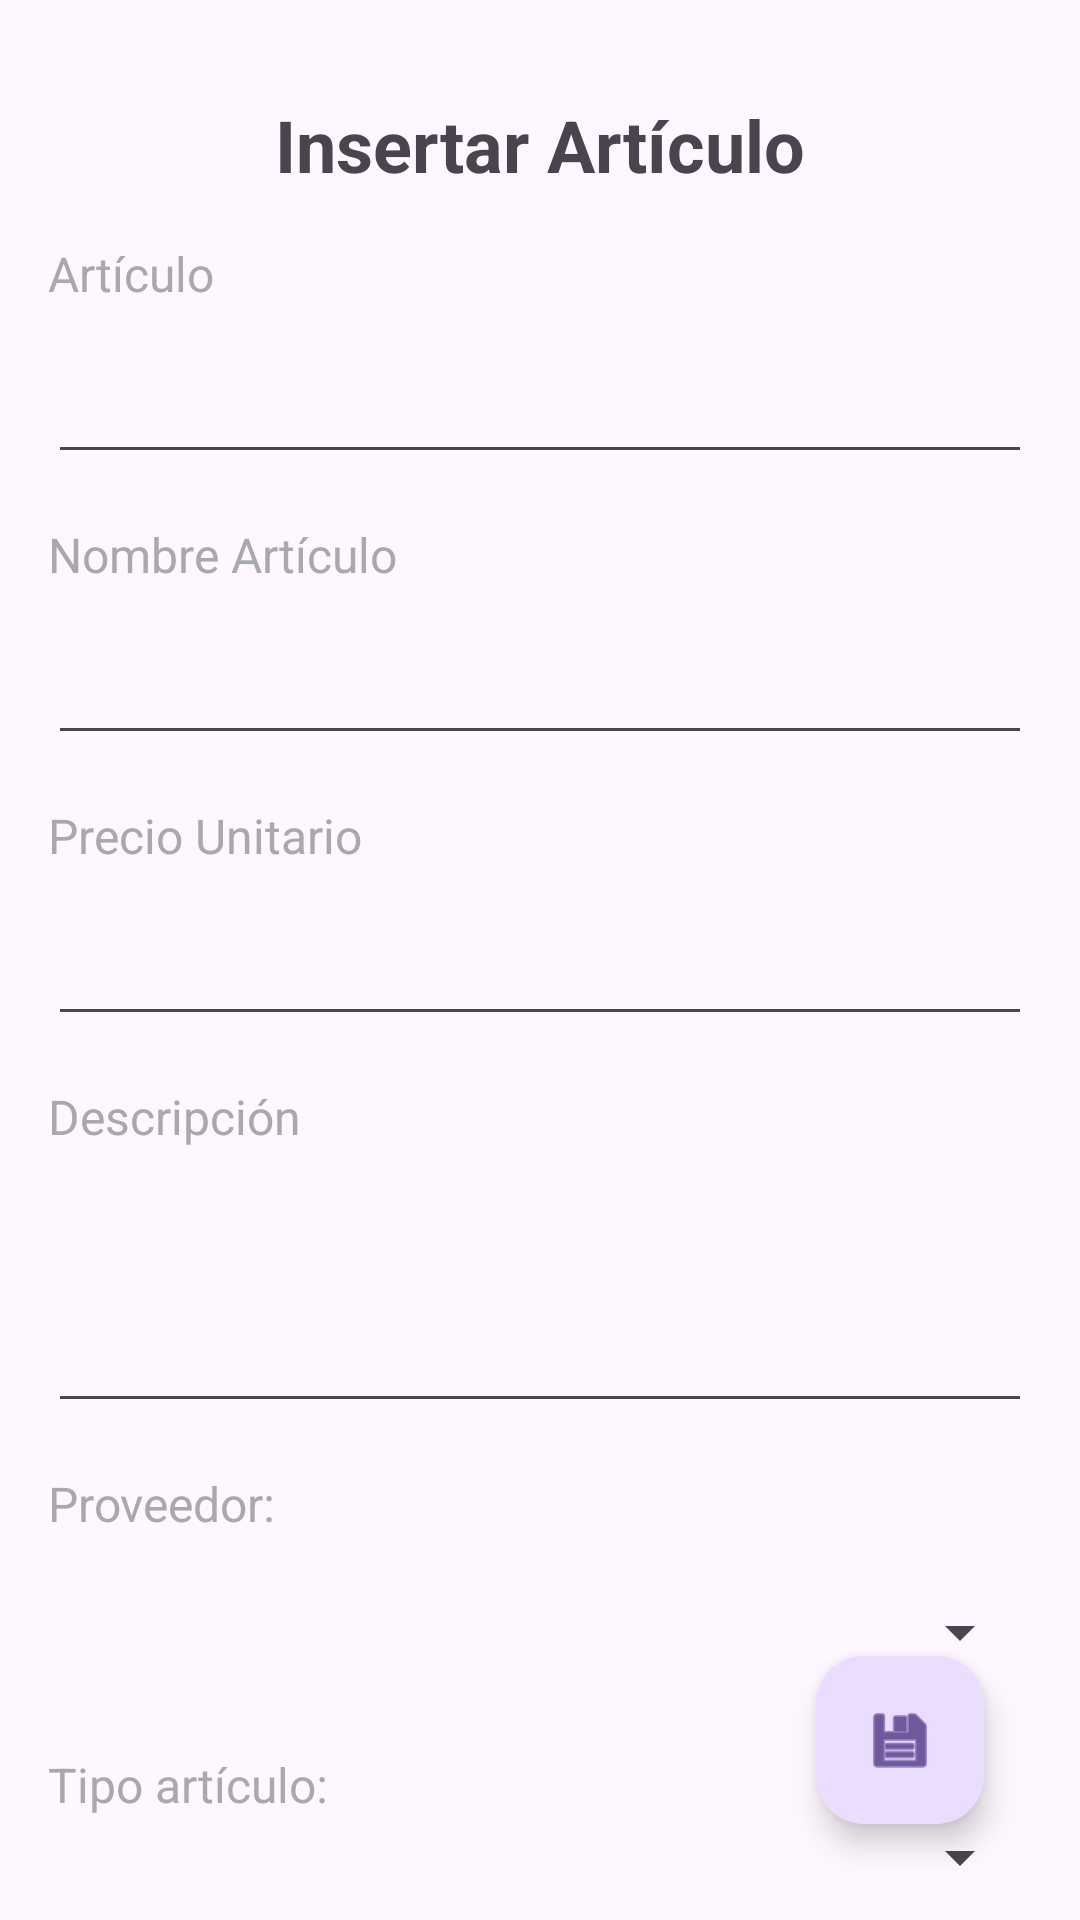

Screen size 1080 × 1920. Icon name, then its box in pixels as [x1,y1,x2,y2]:
Insertar un nuevo artículo: [816,1656,984,1824]
